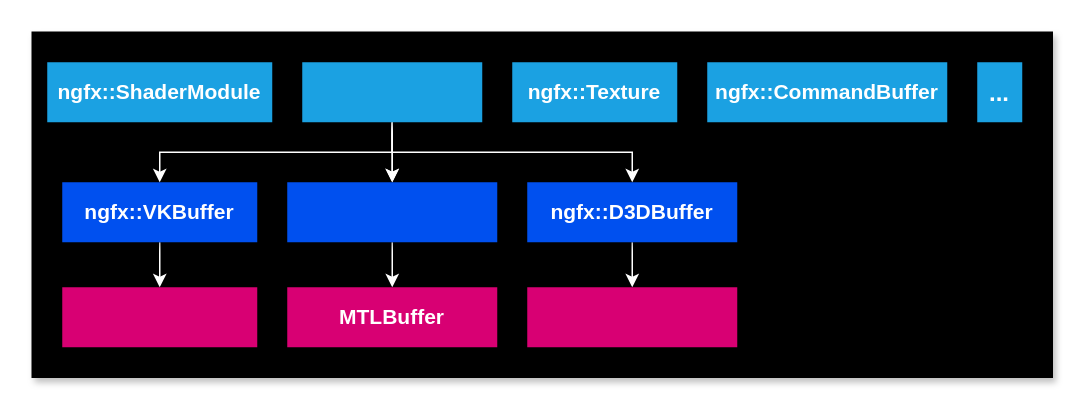
This 1088x414 diagram has some shape labels left out. Here are the shapes that lost their labels. From the top down, the centre of each, then its label:
At point 393,94: "ngfx::Buffer".
At point 393,214: "ngfx::MTLBuffer".
At point 161,318: "VkBuffer".
At point 633,318: "ID3D12Resource".
